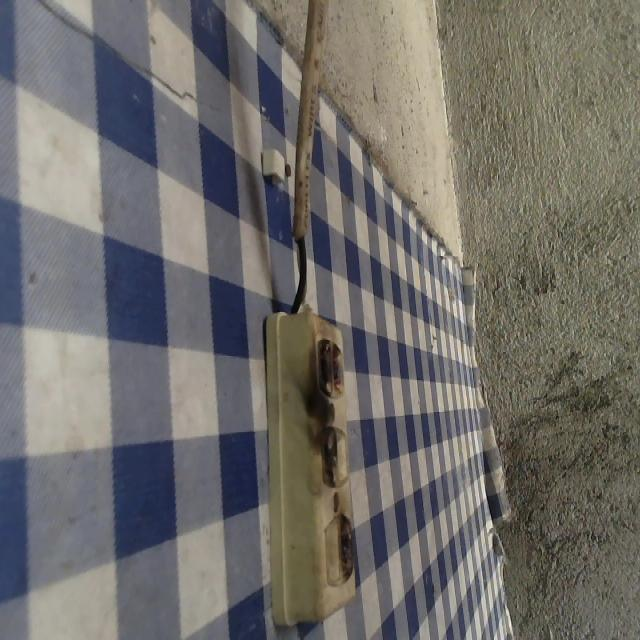-: (311, 332, 355, 401), (313, 418, 342, 493), (333, 500, 357, 583)
